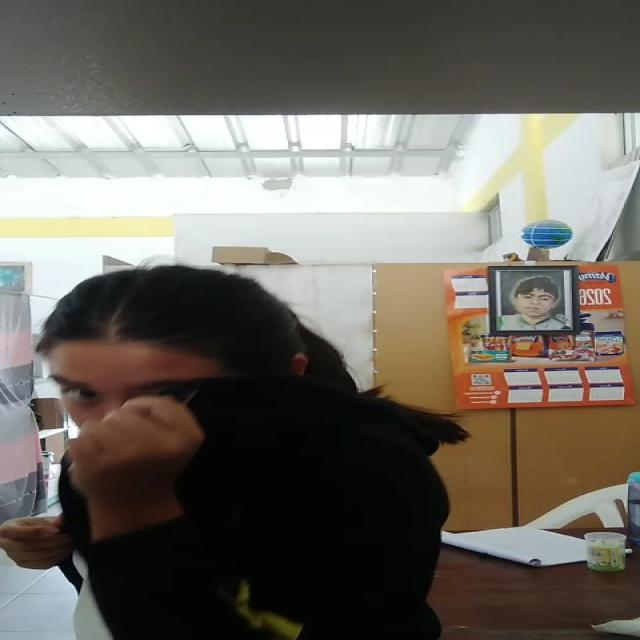8_ropa_rostro: (62, 369, 372, 509)
